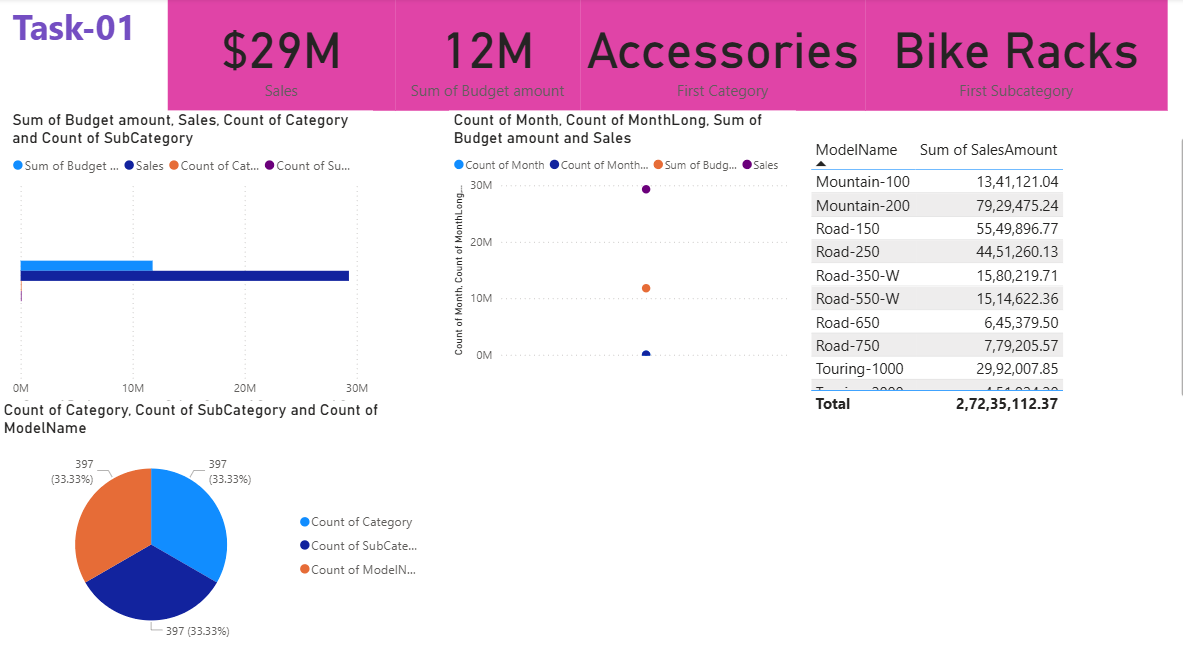

What the dashboard file says about the page in this screenshot:
{"tool":"powerbi","page":{"name":"Page 3","canvas":[1280,720],"ordinal":2},"visuals":[{"type":"textbox","box":[9.4,0,144.6,75],"z":0},{"type":"card","fields":{"Values":["Budget.Sales"]},"box":[180.8,0,243.7,120.5],"z":1000},{"type":"card","fields":{"Values":["Min(Budget.Subcategory)"]},"box":[928.1,0,324.1,120.5],"z":2000},{"type":"card","fields":{"Values":["Min(Budget.Category)"]},"box":[622.7,0,305.3,120.5],"z":3000},{"type":"card","fields":{"Values":["Sum(Budget.Budget amount)"]},"box":[424.5,0,198.2,120.5],"z":4000},{"type":"clusteredBarChart","fields":{"Y":["Sum(Budget.Budget amount)","Budget.Sales","CountNonNull(Product.Category)","CountNonNull(Product.SubCategory)"]},"box":[9.4,120.5,391,329.4],"z":5000},{"type":"lineChart","fields":{"Y":["CountNonNull(Calendar.Month)","CountNonNull(Calendar.MonthLong)","Sum(Budget.Budget amount)","Budget.Sales"]},"box":[482.1,120.5,371,275.9],"z":6000},{"type":"pieChart","fields":{"Y":["CountNonNull(Product.Category)","CountNonNull(Product.SubCategory)","CountNonNull(Product.ModelName)"]},"box":[0,431.2,463.4,270.5],"z":7000},{"type":"tableEx","fields":{"Values":["Product.ModelName","Sum(Sales.SalesAmount)"]},"box":[863.8,144.6,416.5,305.3],"z":8000}]}

Visuals, with their boxes in screenshot pixels (x1, y1, x2, y2), scaled from the page's 1280x720 canvas onto the 1183x656 screenshot:
textbox: select_region(9, 0, 142, 68)
card - Budget.Sales: select_region(167, 0, 392, 110)
card - Min(Budget.Subcategory): select_region(858, 0, 1157, 110)
card - Min(Budget.Category): select_region(576, 0, 858, 110)
card - Sum(Budget.Budget amount): select_region(392, 0, 576, 110)
clusteredBarChart - Sum(Budget.Budget amount) x Budget.Sales: select_region(9, 110, 370, 410)
lineChart - CountNonNull(Calendar.Month) x CountNonNull(Calendar.MonthLong): select_region(446, 110, 788, 361)
pieChart - CountNonNull(Product.Category) x CountNonNull(Product.SubCategory): select_region(0, 393, 428, 639)
tableEx - Product.ModelName x Sum(Sales.SalesAmount): select_region(798, 132, 1182, 410)
